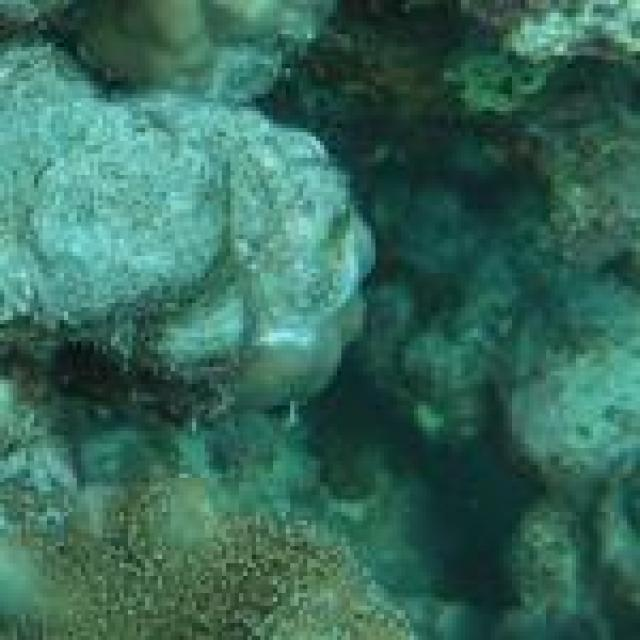Bleached Coral: (0, 0, 380, 399)
